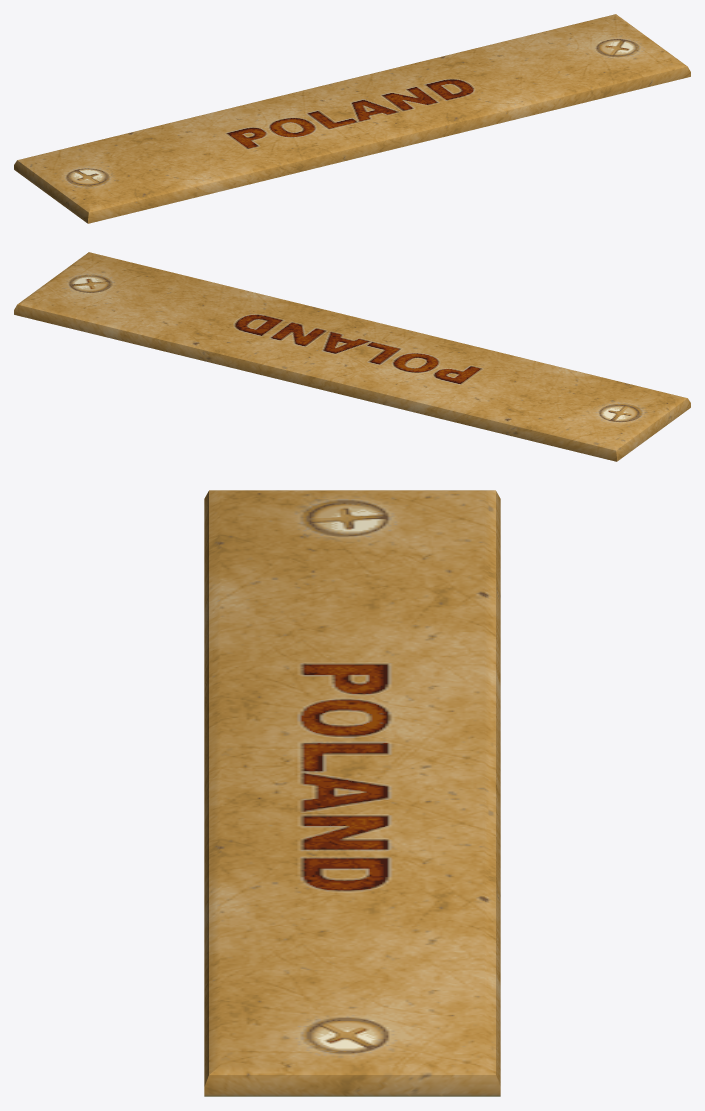
The model's file is mdl_hub_plaquepoland.gltf.
3 views of the same model, one above another, from view 1: azimuth 30°, elevation 25°; view 2: azimuth 150°, elevation 25°; view 3: azimuth 270°, elevation 25° (orthographic). The views are drawn at different scales.
Visible parts, largest first — view 1: mdl_hub_plaque_italy; view 2: mdl_hub_plaque_italy; view 3: mdl_hub_plaque_italy.
Boxes of the visible parts, x1,y1,x2,y2 form: mdl_hub_plaque_italy: (14, 14, 690, 223); mdl_hub_plaque_italy: (14, 252, 690, 461); mdl_hub_plaque_italy: (204, 490, 500, 1096).
Size of the model in its own units: 0.3 by 0.00568 by 0.0638.
Materials: 1 (1 with a texture image).
